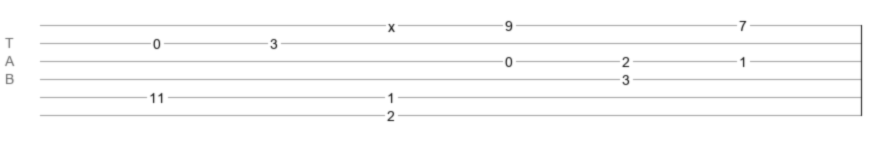0: (153, 36, 161, 46), (505, 54, 513, 64)
1: (387, 90, 395, 100), (739, 54, 747, 64)
11: (149, 90, 165, 100)
2: (387, 108, 395, 118), (622, 54, 630, 64)
3: (270, 36, 278, 46), (622, 72, 630, 82)
7: (739, 18, 747, 28)
9: (505, 18, 513, 28)
x: (388, 19, 395, 27)
